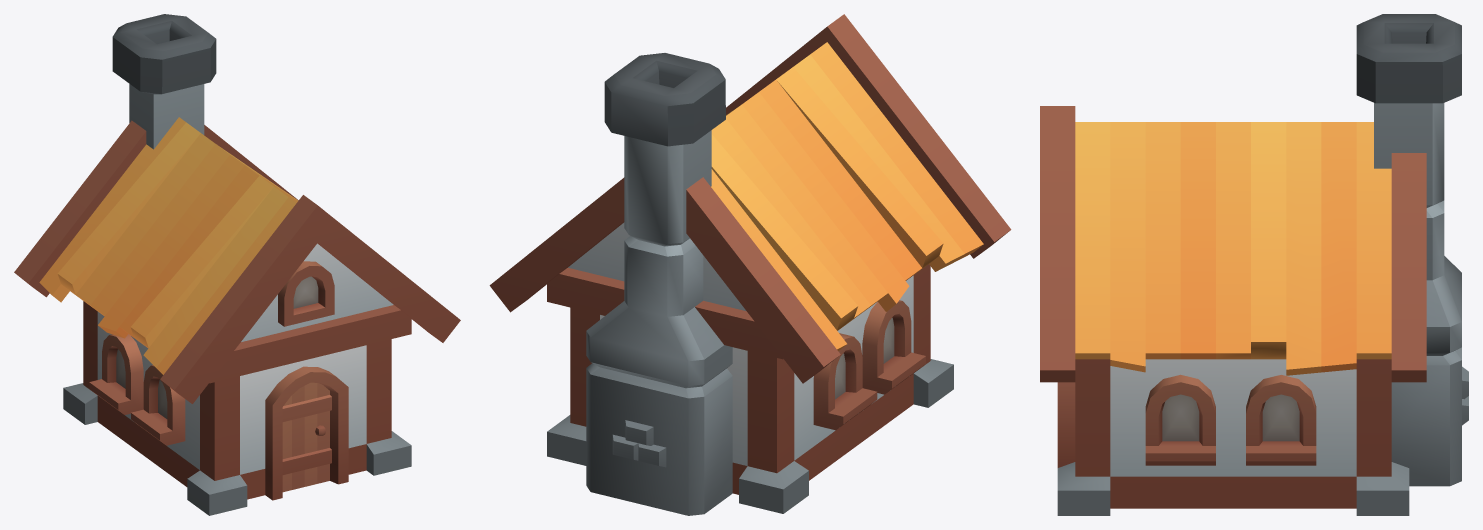
File: building_home_A_yellow.glb
3 renders of one model, left to right at view 1: azimuth 30°, elevation 25°; view 2: azimuth 150°, elevation 25°; view 3: azimuth 270°, elevation 25°, orthographic. The views are drawn at different scales.
Visible parts, largest first — view 1: building_home_A_yellow; view 2: building_home_A_yellow; view 3: building_home_A_yellow.
Boxes of the visible parts, x1,y1,x2,y2 form: building_home_A_yellow: (14, 14, 460, 515); building_home_A_yellow: (489, 14, 1011, 515); building_home_A_yellow: (1040, 14, 1468, 515).
Bounding box in the file's own units: 0.792 × 0.93 × 0.8537.
1 material, 1 textured.
